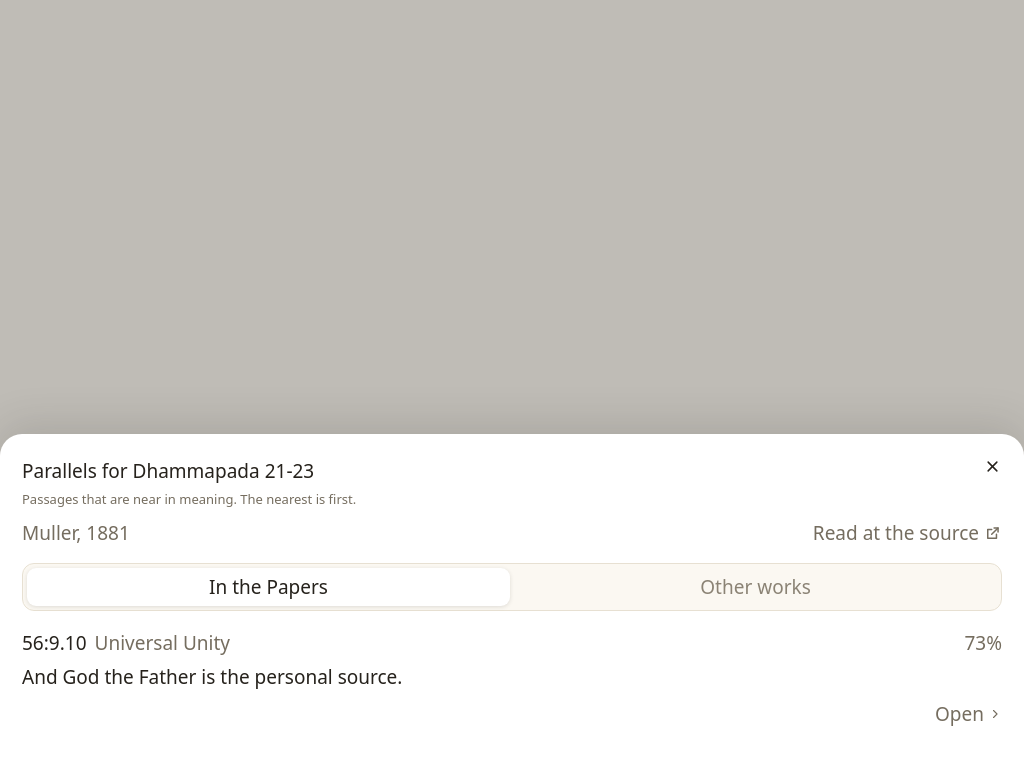
Test case: the parallels of a passage of the Library › gives a passage of a work in World texts a link to its place there, and none to a passage of no page
This screenshot has width=1024, height=768.
Expected: the text "56:9.10" is shown, top-left (22, 628), bottom-right (86, 658)
Click the button "Other works".
click(756, 587)  # box top-left (514, 568), bottom-right (997, 606)
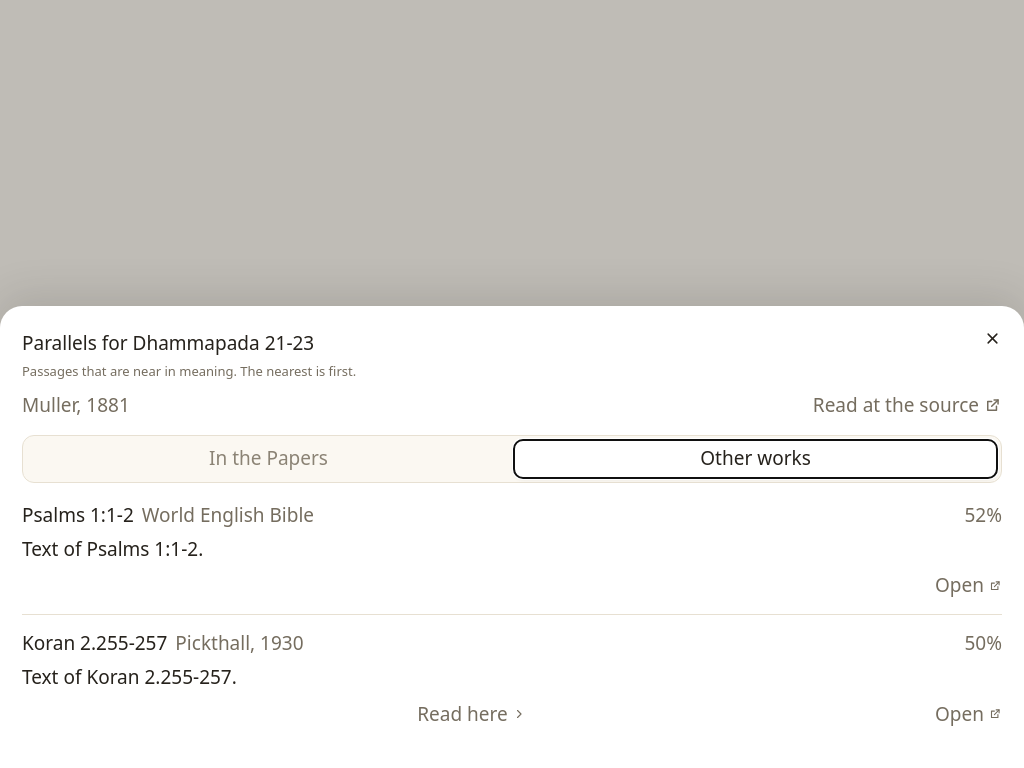
Result: the text "Koran 2.255-257" is shown at top-left (22, 628), bottom-right (167, 658)
Result: the number of links "Read here" is 1 at top-left (417, 699), bottom-right (526, 729)
